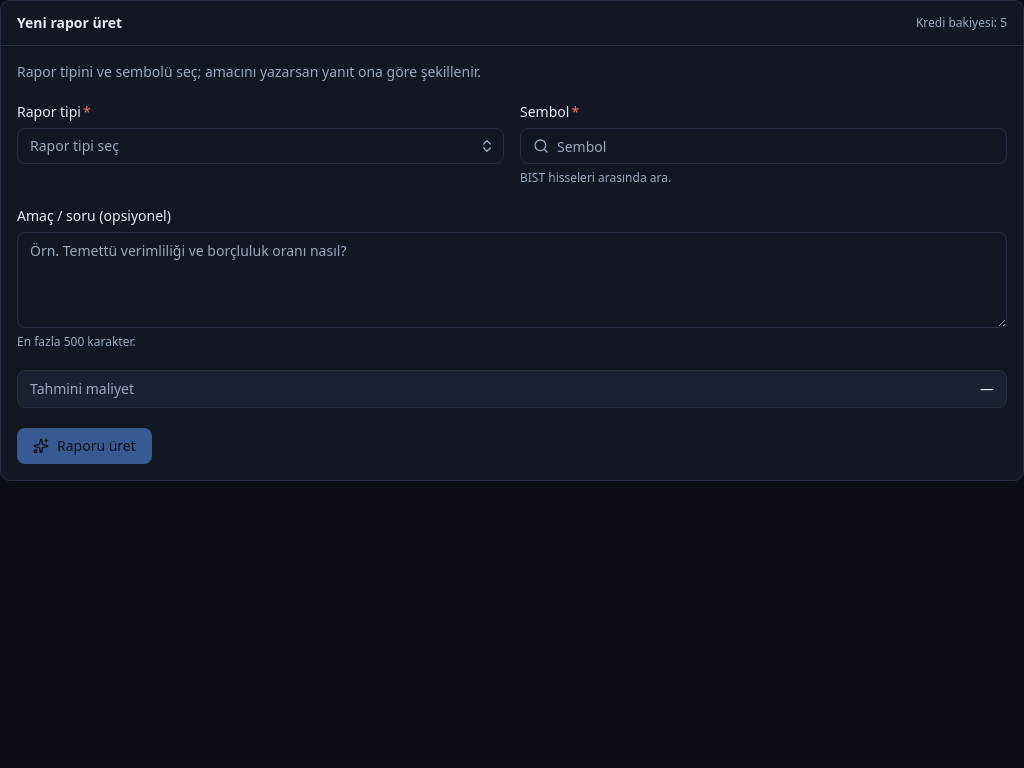
Test: ReportWizard — maliyet ve kredi (U-03) › yetersiz kredide gönderimi engeller ve nedenini açıklar
Click the dropdown labelled "Rapor tipi" at coordinates (74, 146), box [17,128,504,164]
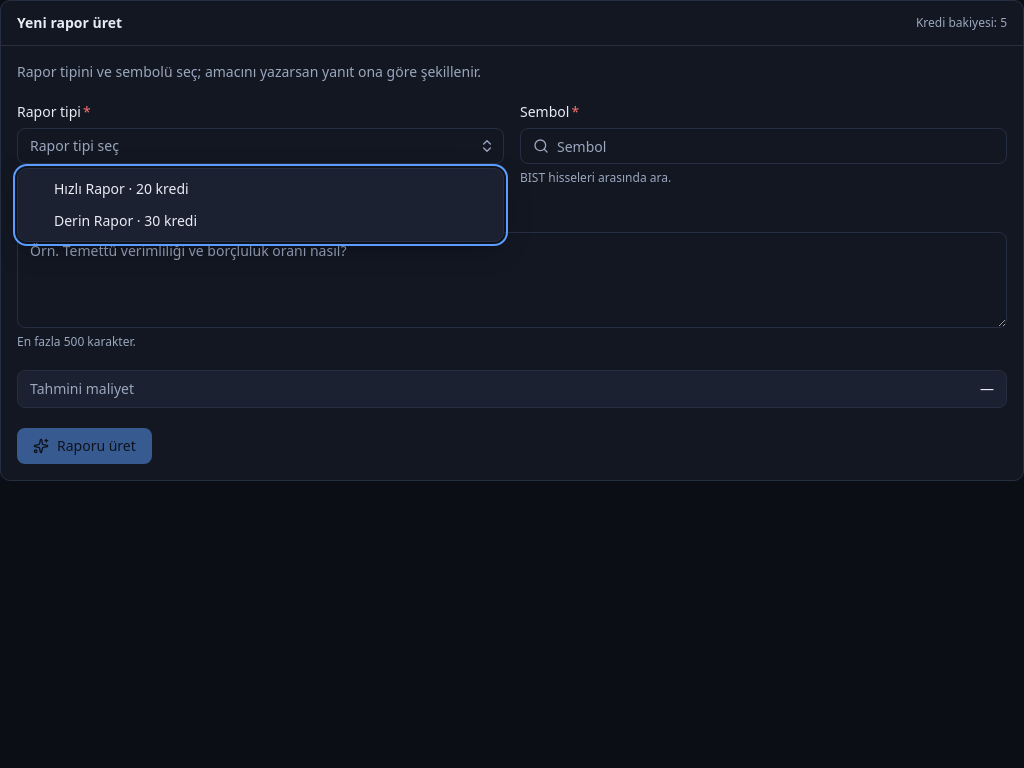
Click the option "Hızlı Rapor · 20 kredi" at coordinates (121, 188), box [54,179,189,198]
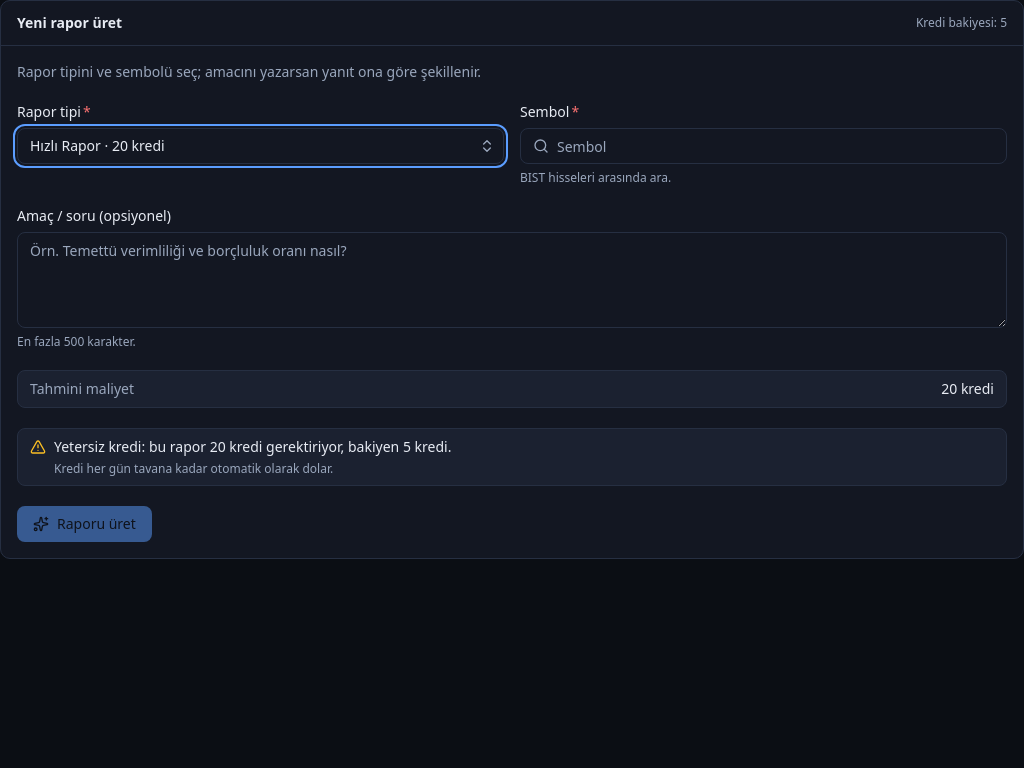
Expected: the message shows "Yetersiz kredi", [54,437,451,456]
Expected: the message shows "20 kredi", [54,437,451,456]
Expected: the message shows "5 kredi", [54,437,451,456]
